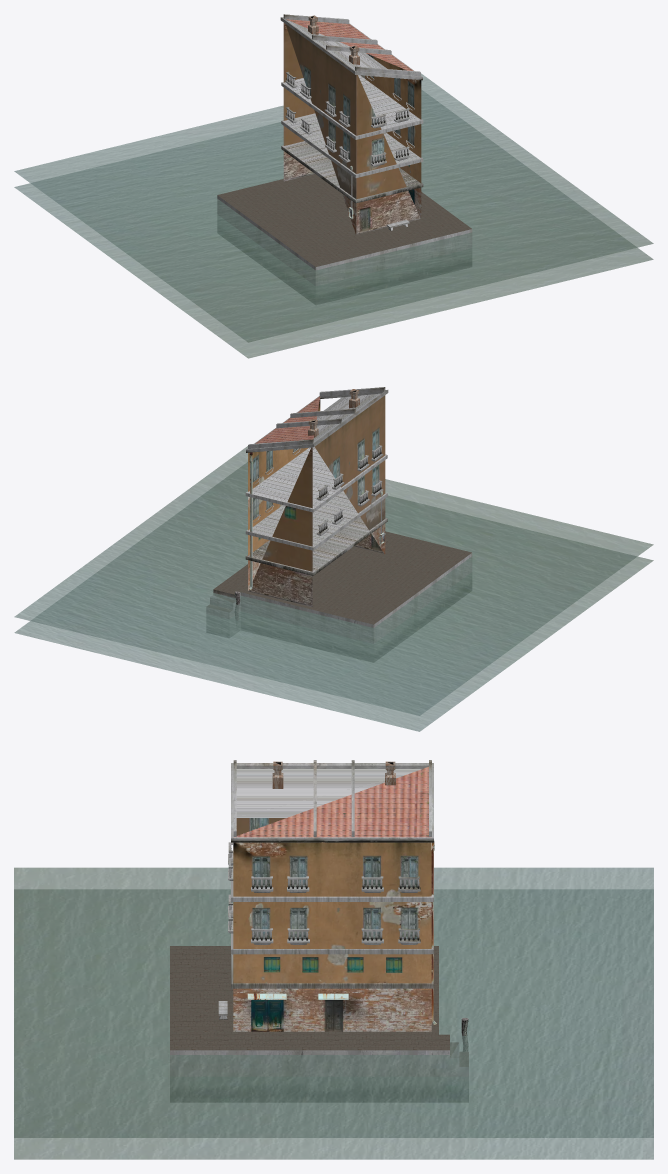
Rendered from bven.glb.
3 renders of one model, top to bottom at view 1: azimuth 30°, elevation 25°; view 2: azimuth 150°, elevation 25°; view 3: azimuth 270°, elevation 25°, orthographic. The views are drawn at different scales.
Visible parts, largest first — view 1: polySurface48_lambert20_0, polySurface107_lambert29_0, polySurface4_lambert21_0, polySurface120_lambert27_0, polySurface107_lambert13_0, polySurface120_lambert15_0, polySurface120_lambert8_0, polySurface120_lambert16_0, polySurface94_lambert22_0, polySurface120_lambert14_0, polySurface1_lambert25_0; view 2: polySurface48_lambert20_0, polySurface4_lambert21_0, polySurface107_lambert29_0, polySurface107_lambert13_0, polySurface120_lambert27_0, polySurface120_lambert16_0, polySurface120_lambert8_0, polySurface94_lambert22_0, polySurface120_lambert14_0, polySurface1_lambert25_0; view 3: polySurface48_lambert20_0, polySurface120_lambert8_0, polySurface4_lambert21_0, polySurface107_lambert29_0, polySurface107_lambert13_0, polySurface120_lambert14_0, polySurface1_lambert25_0, polySurface94_lambert22_0.
Boxes of the visible parts, left/top/right/bottom form: polySurface48_lambert20_0: left=14, top=73, right=653, bottom=358; polySurface107_lambert29_0: left=217, top=174, right=471, bottom=266; polySurface4_lambert21_0: left=280, top=17, right=423, bottom=203; polySurface120_lambert27_0: left=285, top=24, right=356, bottom=234; polySurface107_lambert13_0: left=217, top=195, right=472, bottom=286; polySurface120_lambert15_0: left=356, top=75, right=420, bottom=234; polySurface120_lambert8_0: left=360, top=53, right=421, bottom=218; polySurface120_lambert16_0: left=283, top=23, right=314, bottom=181; polySurface94_lambert22_0: left=283, top=14, right=420, bottom=76; polySurface120_lambert14_0: left=286, top=19, right=413, bottom=70; polySurface1_lambert25_0: left=285, top=71, right=414, bottom=166; polySurface48_lambert20_0: left=14, top=446, right=653, bottom=731; polySurface4_lambert21_0: left=245, top=390, right=388, bottom=575; polySurface107_lambert29_0: left=217, top=531, right=471, bottom=624; polySurface107_lambert13_0: left=206, top=553, right=472, bottom=643; polySurface120_lambert27_0: left=315, top=395, right=385, bottom=553; polySurface120_lambert16_0: left=248, top=447, right=312, bottom=606; polySurface120_lambert8_0: left=248, top=399, right=320, bottom=590; polySurface94_lambert22_0: left=248, top=387, right=385, bottom=448; polySurface120_lambert14_0: left=255, top=396, right=320, bottom=443; polySurface1_lambert25_0: left=252, top=445, right=383, bottom=535; polySurface48_lambert20_0: left=14, top=867, right=653, bottom=1159; polySurface120_lambert8_0: left=233, top=842, right=431, bottom=1031; polySurface4_lambert21_0: left=229, top=763, right=433, bottom=988; polySurface107_lambert29_0: left=170, top=946, right=438, bottom=1050; polySurface107_lambert13_0: left=170, top=1044, right=468, bottom=1076; polySurface120_lambert14_0: left=234, top=766, right=431, bottom=837; polySurface1_lambert25_0: left=228, top=842, right=420, bottom=944; polySurface94_lambert22_0: left=233, top=760, right=431, bottom=836.
Bounding box in the file's own units: 39.48 × 19.51 × 39.48.
Materials: 19 (17 with a texture image).
